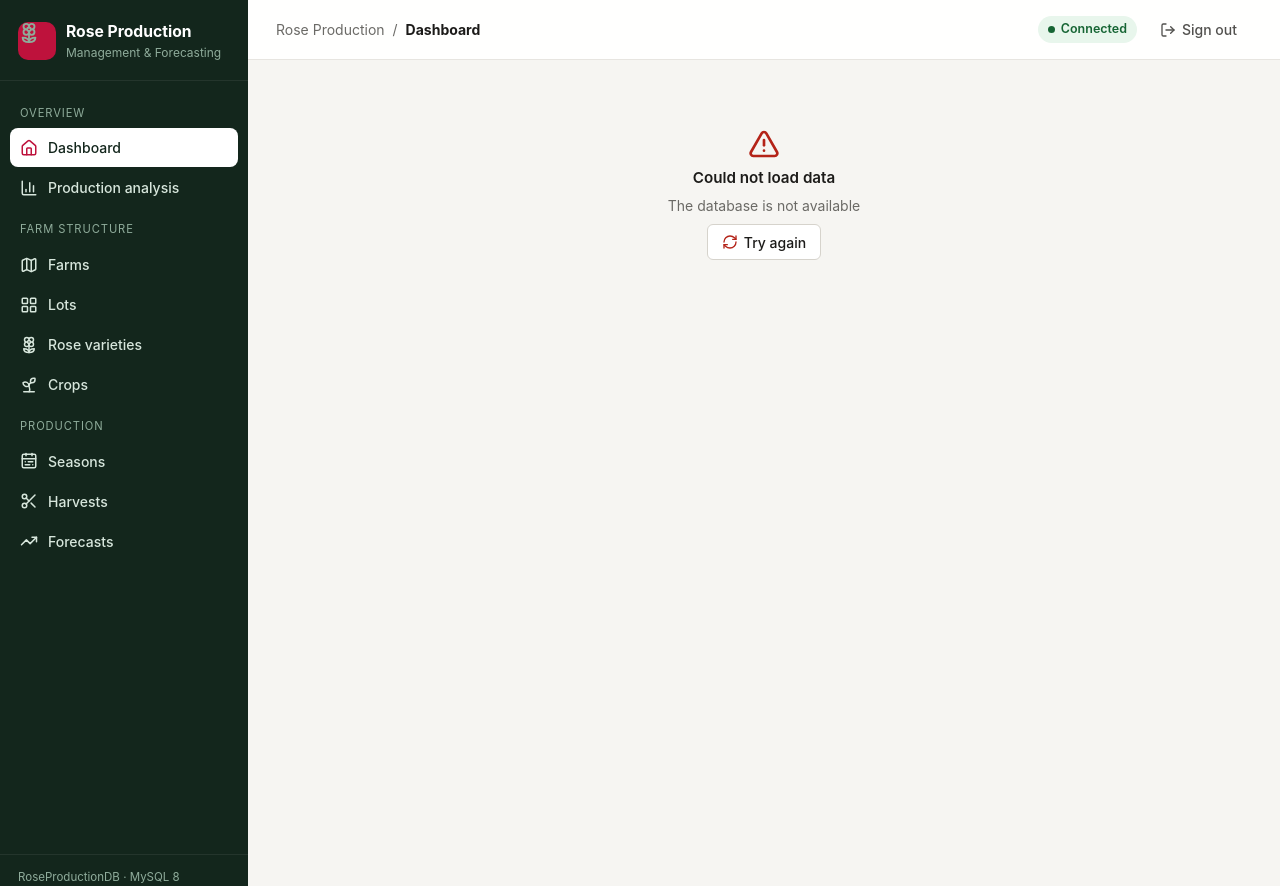
Test: navigation and dashboard › shows an error state with retry when the dashboard fails
This screenshot has width=1280, height=886.
Expected: the text "The database is not available" is shown, [668,195,860,216]
Click the button "Try again": x=764, y=242 [707,224,821,260]
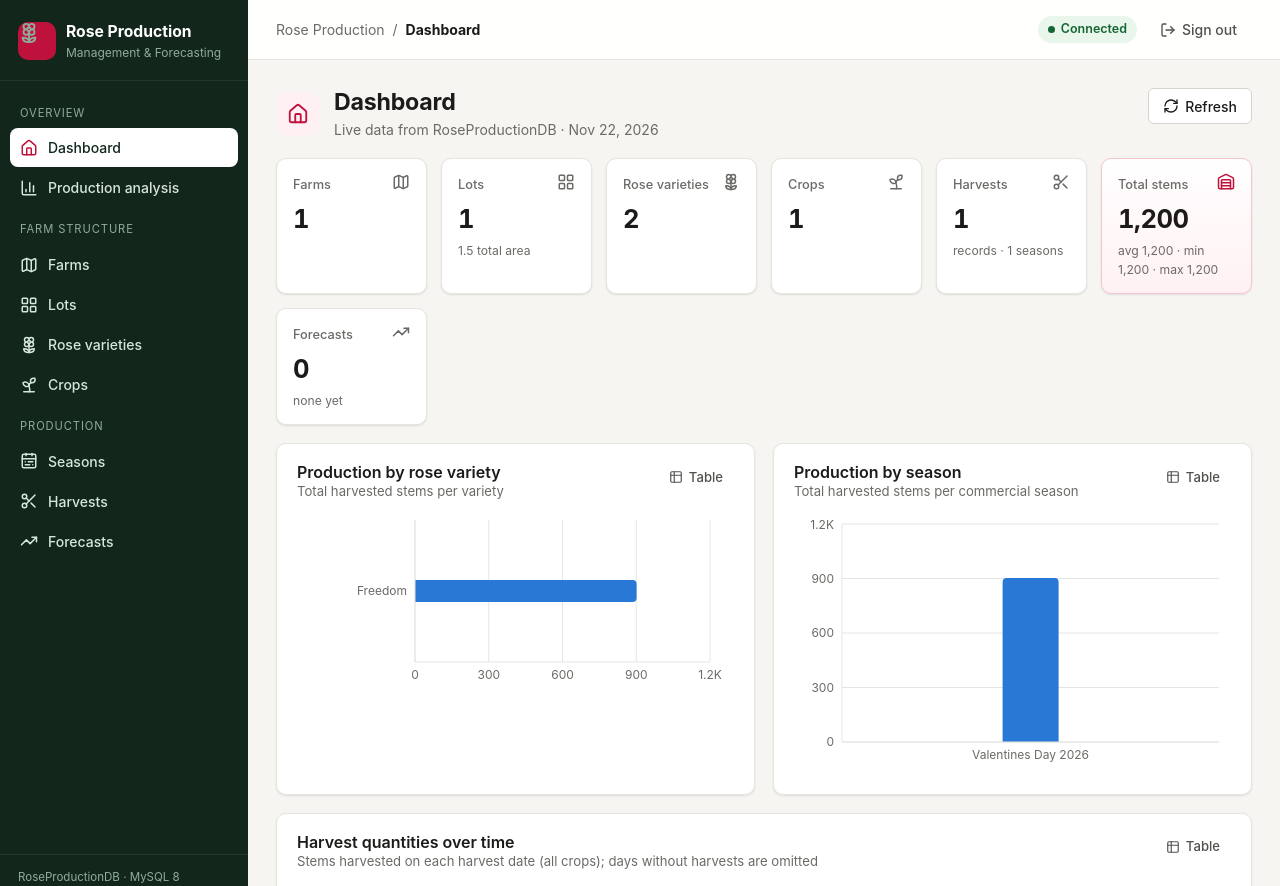
Expected: the heading "Dashboard" is shown, [334,88,456,116]
